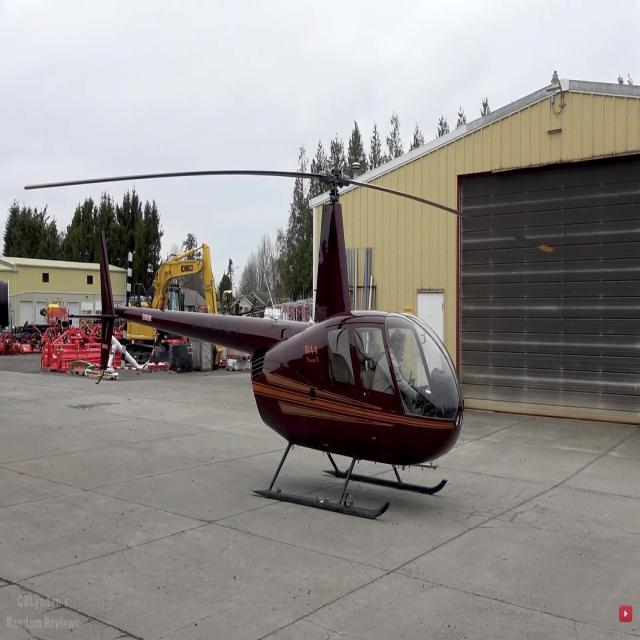CIV_HELO: (66, 166, 464, 522)
